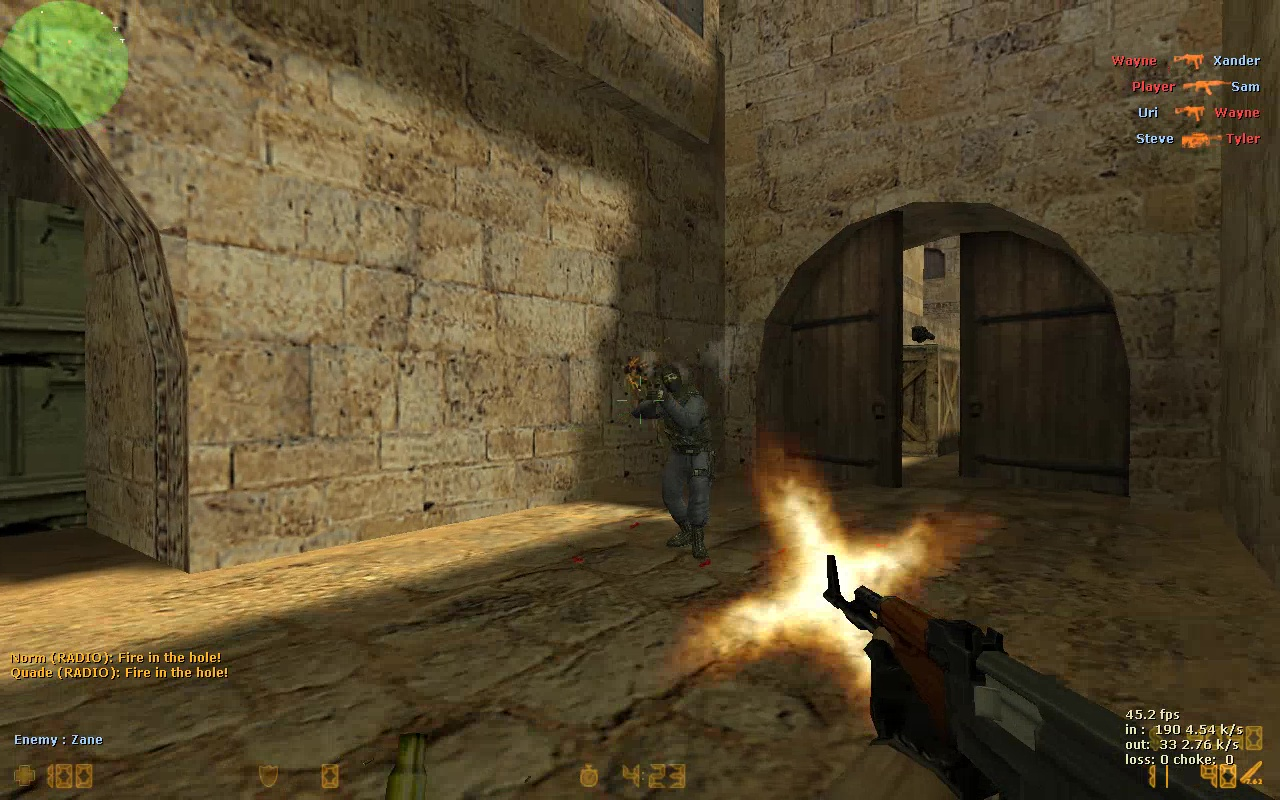ct: (631, 364, 715, 561)
